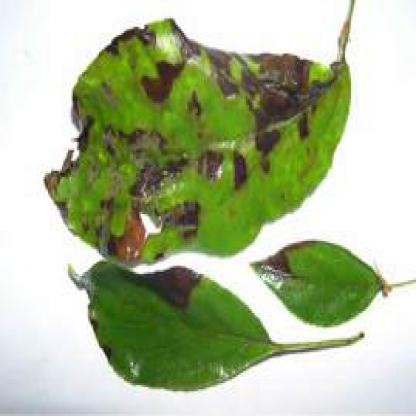apple scab leaf: (32, 6, 388, 280), (70, 245, 281, 400), (249, 212, 394, 350)
